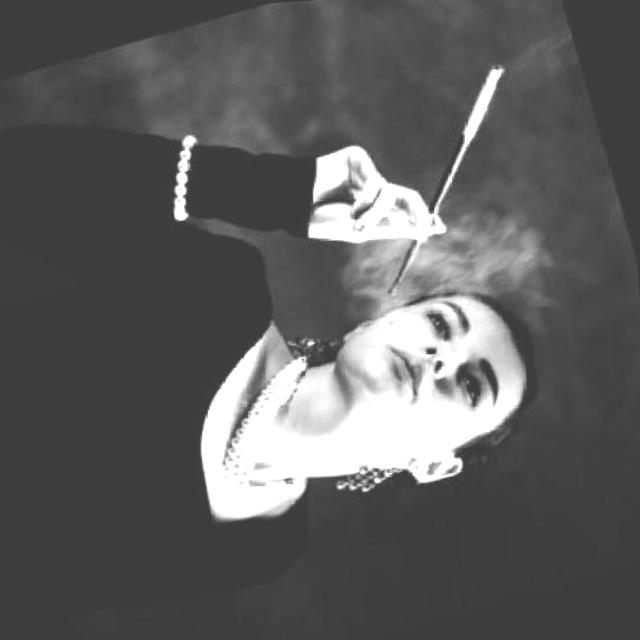cigarette: (442, 57, 520, 142)
